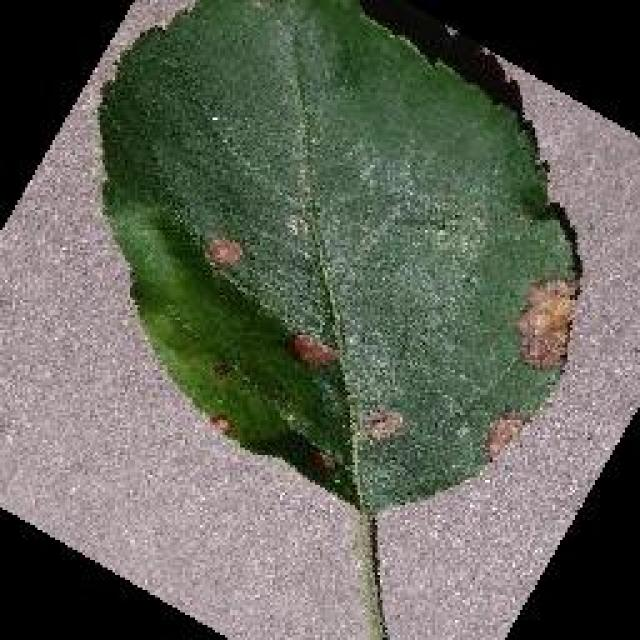Black_rot: (95, 0, 580, 518)
